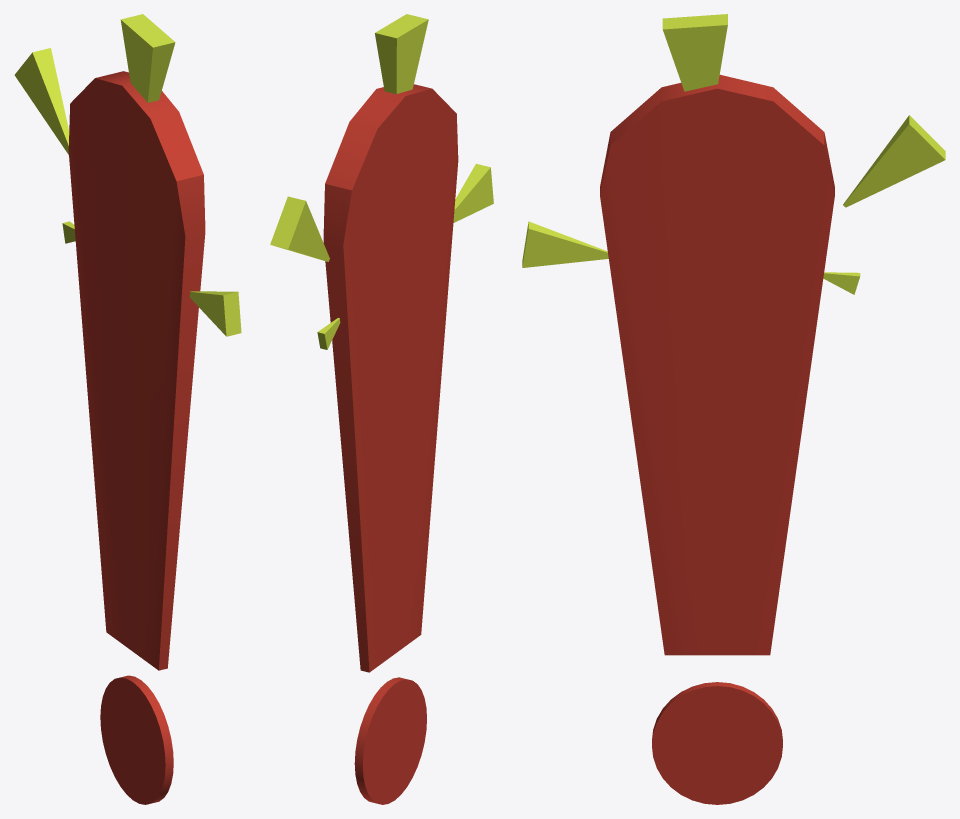
File: Anim_Enemigo_Exclamacion.fbx
3 views of the same model, side by side, from view 1: azimuth 30°, elevation 25°; view 2: azimuth 150°, elevation 25°; view 3: azimuth 270°, elevation 25° (orthographic). The views are drawn at different scales.
Visible parts, largest first — view 1: Cube.002, Cube; view 2: Cube.002, Cube; view 3: Cube.002, Cube.
Part boxes in pixels (x1,y1,x2,y2): Cube.002: (68, 71, 205, 804); Cube: (14, 14, 241, 336); Cube.002: (323, 84, 458, 804); Cube: (270, 14, 493, 349); Cube.002: (600, 74, 834, 804); Cube: (522, 14, 945, 294).
Bounding box in the file's own units: 1.34 × 33.6 × 16.45.
